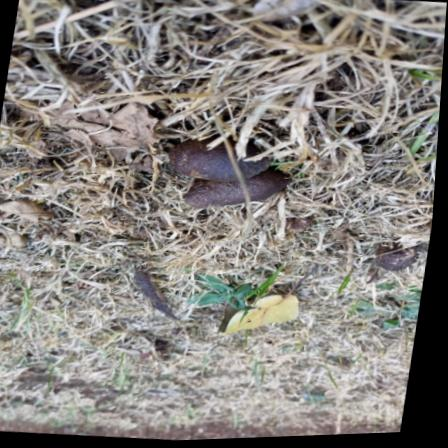dog-poop: (168, 132, 294, 226), (380, 238, 426, 279)
